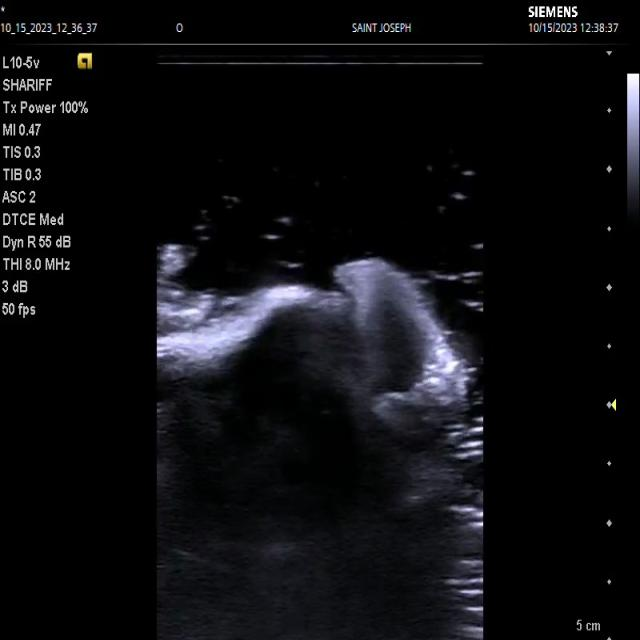tissue: (156, 245, 470, 585)
